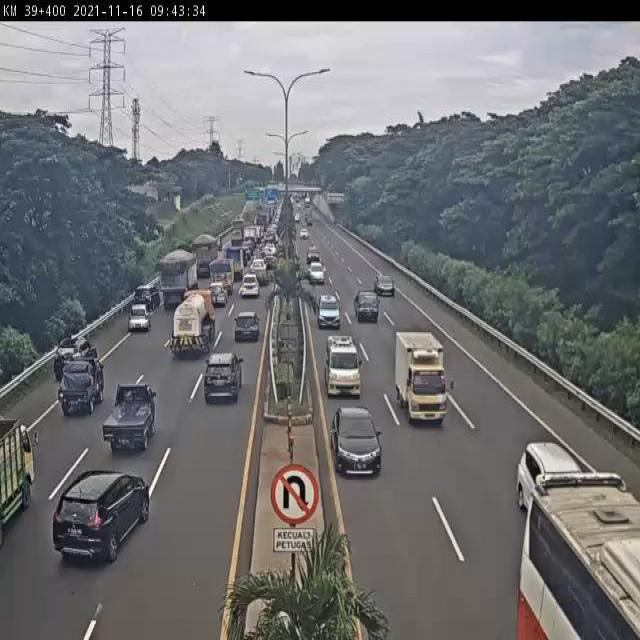car: (52, 468, 154, 568), (99, 385, 155, 456), (331, 408, 383, 481), (54, 359, 105, 420), (326, 336, 362, 400), (202, 350, 242, 402), (55, 335, 97, 381), (231, 309, 261, 344), (355, 289, 381, 323), (127, 305, 153, 335), (318, 296, 340, 329), (129, 287, 158, 312), (240, 274, 262, 302), (208, 281, 229, 308), (377, 274, 395, 298)
small truck: (396, 331, 452, 429)
truck-l-: (159, 249, 200, 311)
truck-m-: (168, 289, 217, 360)
